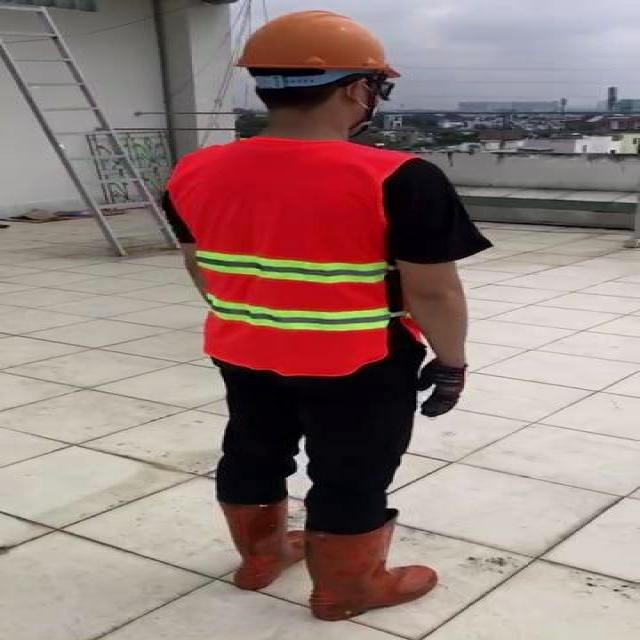boots: (302, 512, 441, 622), (212, 496, 302, 590)
hand_glove: (414, 360, 470, 419)
head_helmet: (234, 8, 397, 76)
person: (167, 4, 494, 621)
vest: (169, 138, 423, 377)
